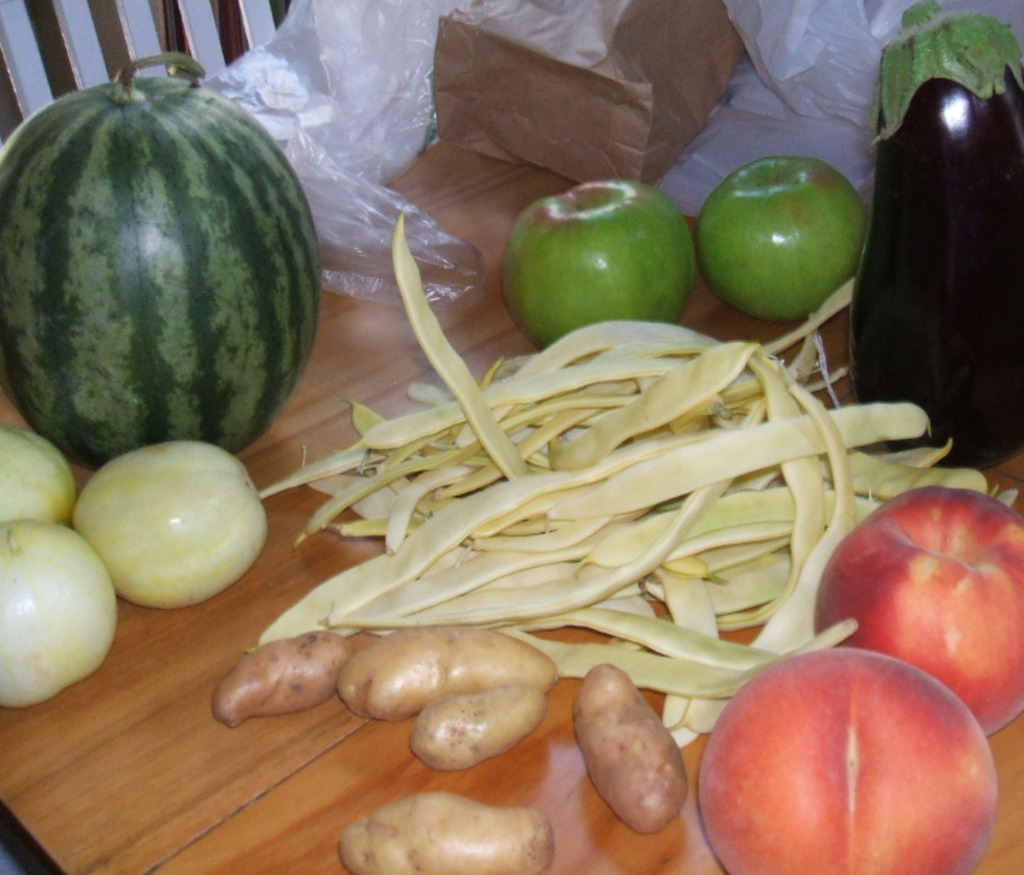Apple: (689, 652, 1008, 873), (817, 481, 1022, 744), (499, 169, 709, 356), (693, 144, 879, 336)
